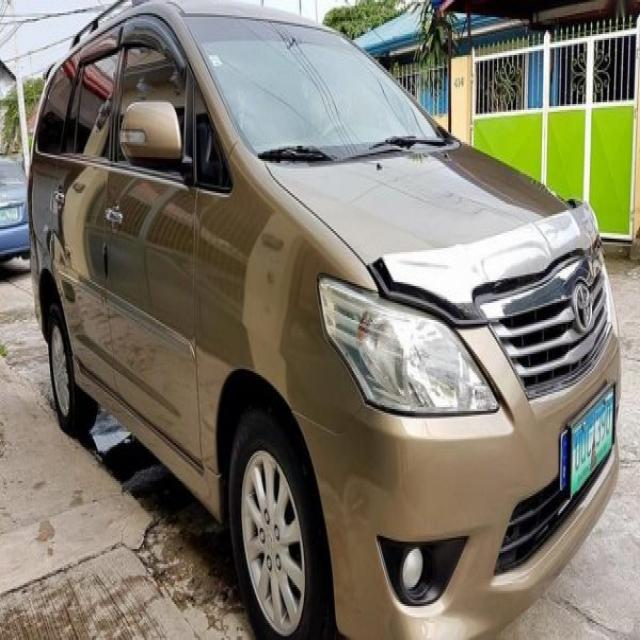light_vehicle: (26, 0, 623, 631)
